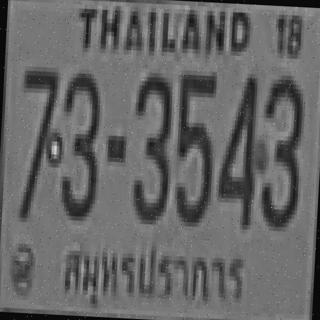N03: (256, 74, 306, 228), (56, 68, 102, 217), (130, 68, 174, 221)
N04: (214, 72, 258, 225)
N05: (172, 70, 216, 223)
N07: (14, 62, 58, 219)
P57: (58, 230, 248, 309)
